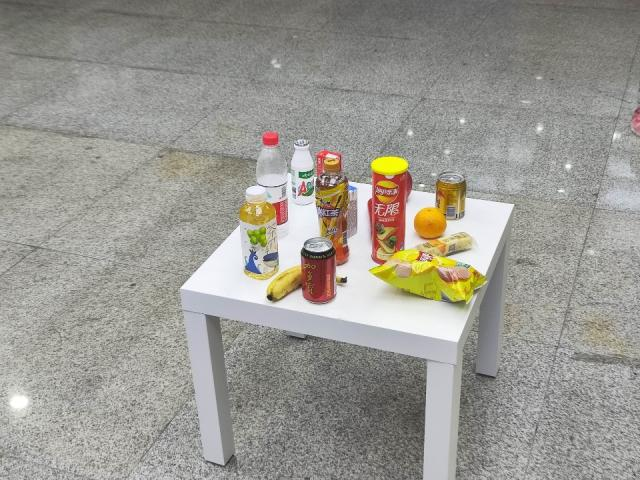Canned_drinks: (300, 236, 339, 306), (438, 170, 467, 219)
